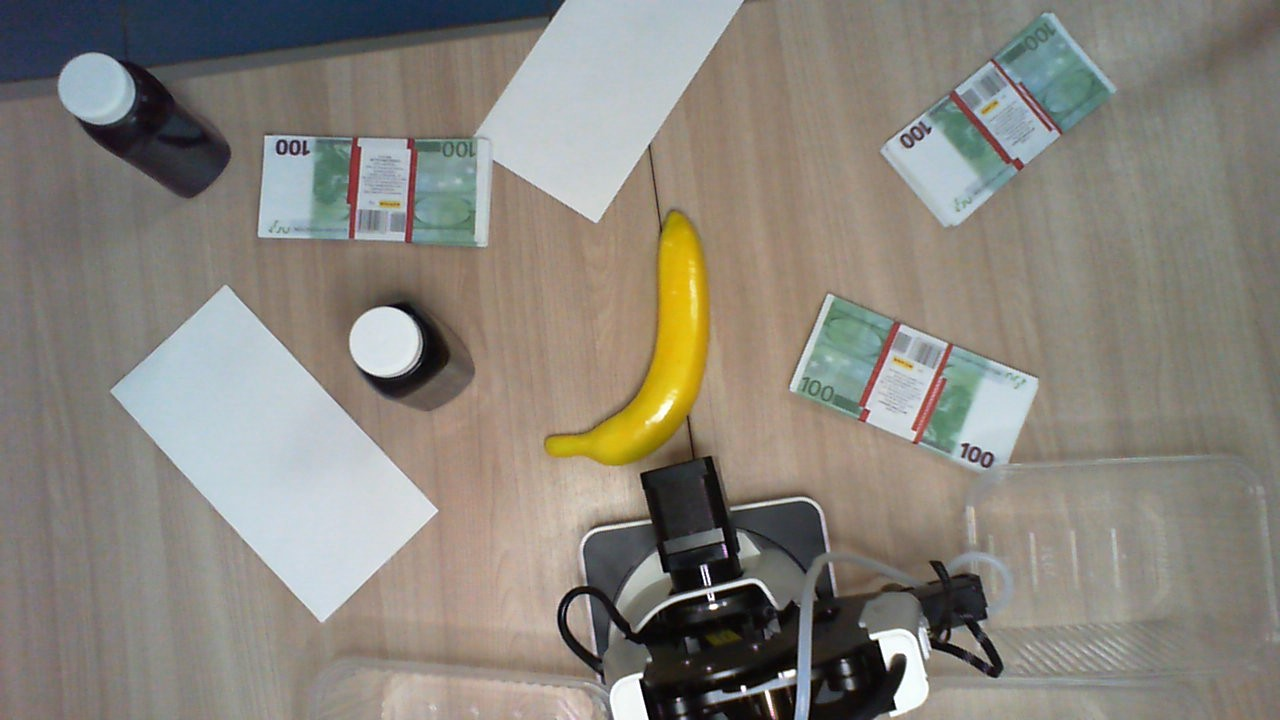banana: (544, 205, 708, 466)
bottle: (52, 46, 168, 160), (346, 297, 443, 409)
convert: (110, 284, 442, 623), (472, 1, 747, 223)
money: (880, 10, 1121, 230), (786, 290, 1041, 481), (258, 135, 494, 245)
